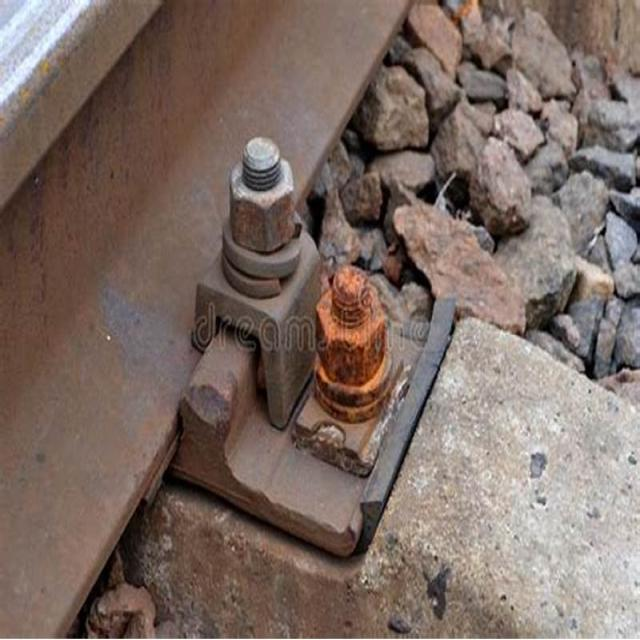bolt nut: (314, 274, 386, 388), (226, 146, 296, 255)
